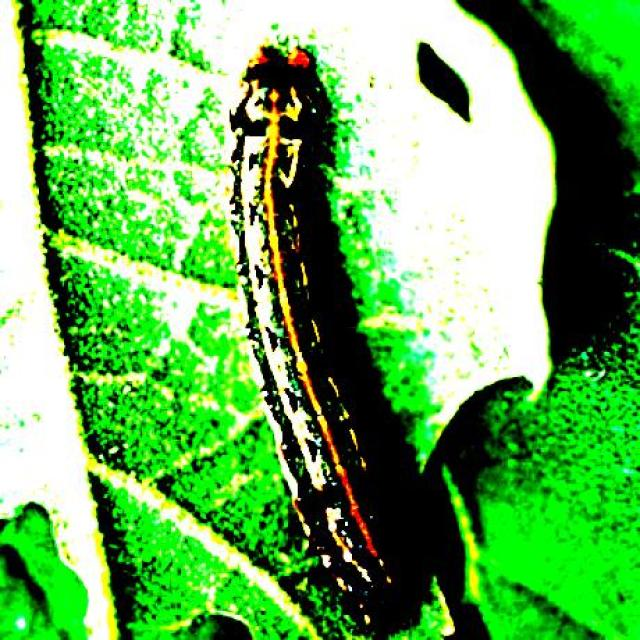Armyworm: (179, 30, 419, 638)
Armyworm_damage: (367, 23, 511, 133)
